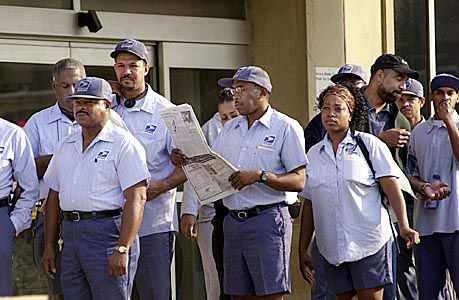person: (181, 69, 309, 300)
